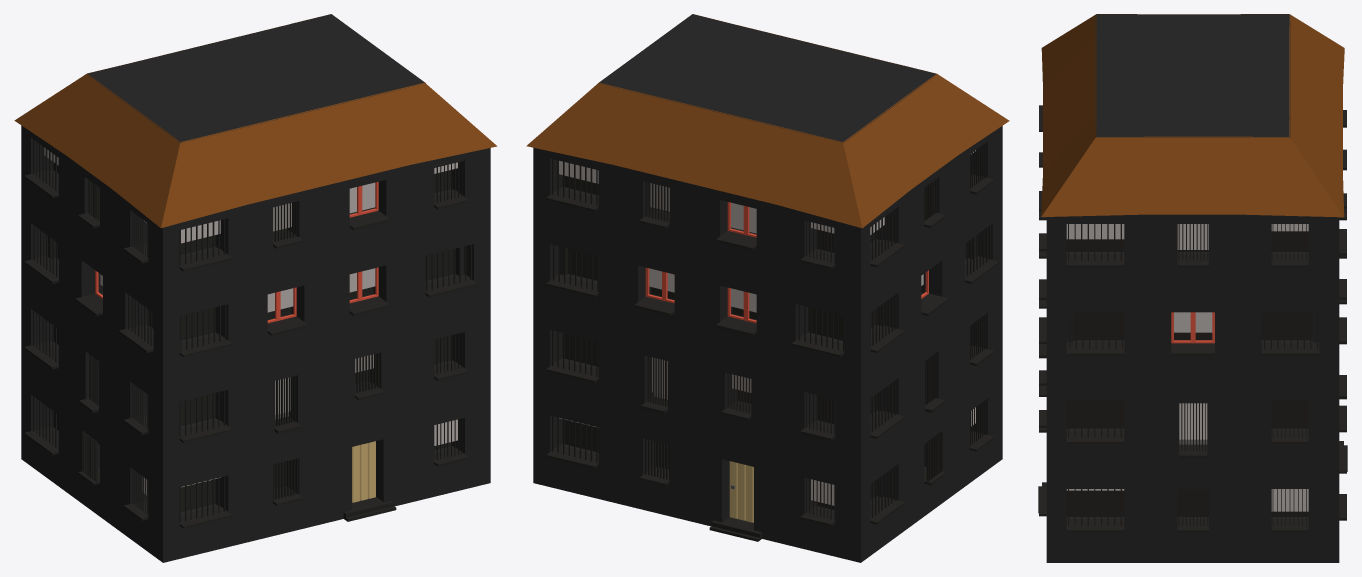
The model's file is Casa_Procedural_9.fbx.
The picture shows the model from 3 angles, left to right: view 1: azimuth 30°, elevation 25°; view 2: azimuth 150°, elevation 25°; view 3: azimuth 270°, elevation 25°; orthographic projection. The views are drawn at different scales.
Visible parts, largest first — view 1: 9; view 2: 9; view 3: 9.
Boxes of the visible parts, x1=… form: 9: x1=14, y1=14, x2=497, y2=562; 9: x1=526, y1=14, x2=1009, y2=562; 9: x1=1038, y1=14, x2=1347, y2=562.
Size of the model in its own units: 416 by 459 by 318.
